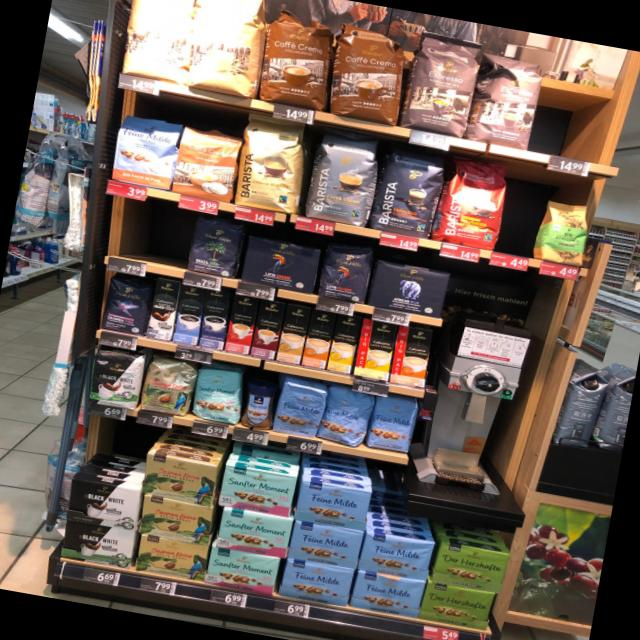AB Gemahlen: (368, 259, 449, 319)
Athiopien Bohne: (534, 195, 594, 268)
BM Bohne: (184, 212, 246, 278)
BW Bohne: (84, 346, 148, 412)
BW Gemahlen: (64, 477, 144, 531), (59, 518, 138, 570)
Barista CB: (230, 111, 316, 217)
Barista CC: (300, 122, 384, 228)
Barista Espresso: (370, 142, 448, 240)
Barista Kolumbien: (434, 152, 514, 254)
C Fino Bohne: (98, 274, 154, 336)
CC Mild: (182, 0, 273, 98), (117, 0, 202, 87)
CC Vollmundig: (170, 121, 243, 204)
CC Vollmundig 36 Pads: (320, 18, 414, 128), (252, 3, 340, 114)
Colombia BB Bohne: (138, 354, 198, 418)
Colombia BB Gemahlen: (140, 452, 219, 508), (136, 494, 217, 546), (132, 534, 210, 582)
Empty Shelf: (531, 52, 635, 166), (103, 195, 190, 268), (496, 188, 547, 258)
FM 36 Pads: (109, 110, 183, 192)
FM Bohne: (294, 478, 373, 532), (287, 520, 363, 570), (280, 557, 356, 607), (360, 530, 434, 581), (318, 384, 376, 448), (350, 570, 425, 619), (272, 378, 328, 440), (368, 396, 420, 454)
FM Instant: (238, 380, 278, 432)
Herzhatfe Mundig: (434, 540, 510, 594), (422, 581, 494, 632)
LG Bohne: (316, 238, 376, 306)
LG Gemahlen: (238, 232, 322, 296)
SM Bohne: (189, 365, 247, 425)
SM Gemahlen: (217, 462, 297, 516), (214, 506, 294, 560), (204, 546, 279, 596)
Simo CCMild: (353, 318, 397, 382)
Simo CCMild bigpack: (328, 313, 360, 374)
Simo CCVollmundig: (388, 326, 434, 388)
Simo CCVollmundig bigpack: (302, 308, 334, 370)
Simo Decaff: (276, 303, 310, 365)
Simo Es Brazil: (224, 294, 258, 354)
Simo Es Caramel: (249, 299, 284, 359)
Simo Es Elegant: (146, 276, 181, 342)
Simo Es Kraft: (196, 288, 232, 350)
Simo Es Vanilla: (172, 284, 206, 345)
